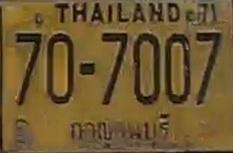0: (46, 33, 74, 104), (133, 32, 160, 105), (164, 32, 190, 104)
7: (14, 32, 42, 104), (101, 31, 128, 104), (196, 31, 222, 104)
KRI: (68, 110, 171, 148)
